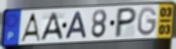8: (90, 9, 108, 40)
A: (38, 11, 64, 42), (64, 11, 88, 40), (19, 12, 41, 43)
G: (137, 6, 159, 37)
P: (113, 7, 139, 39)
